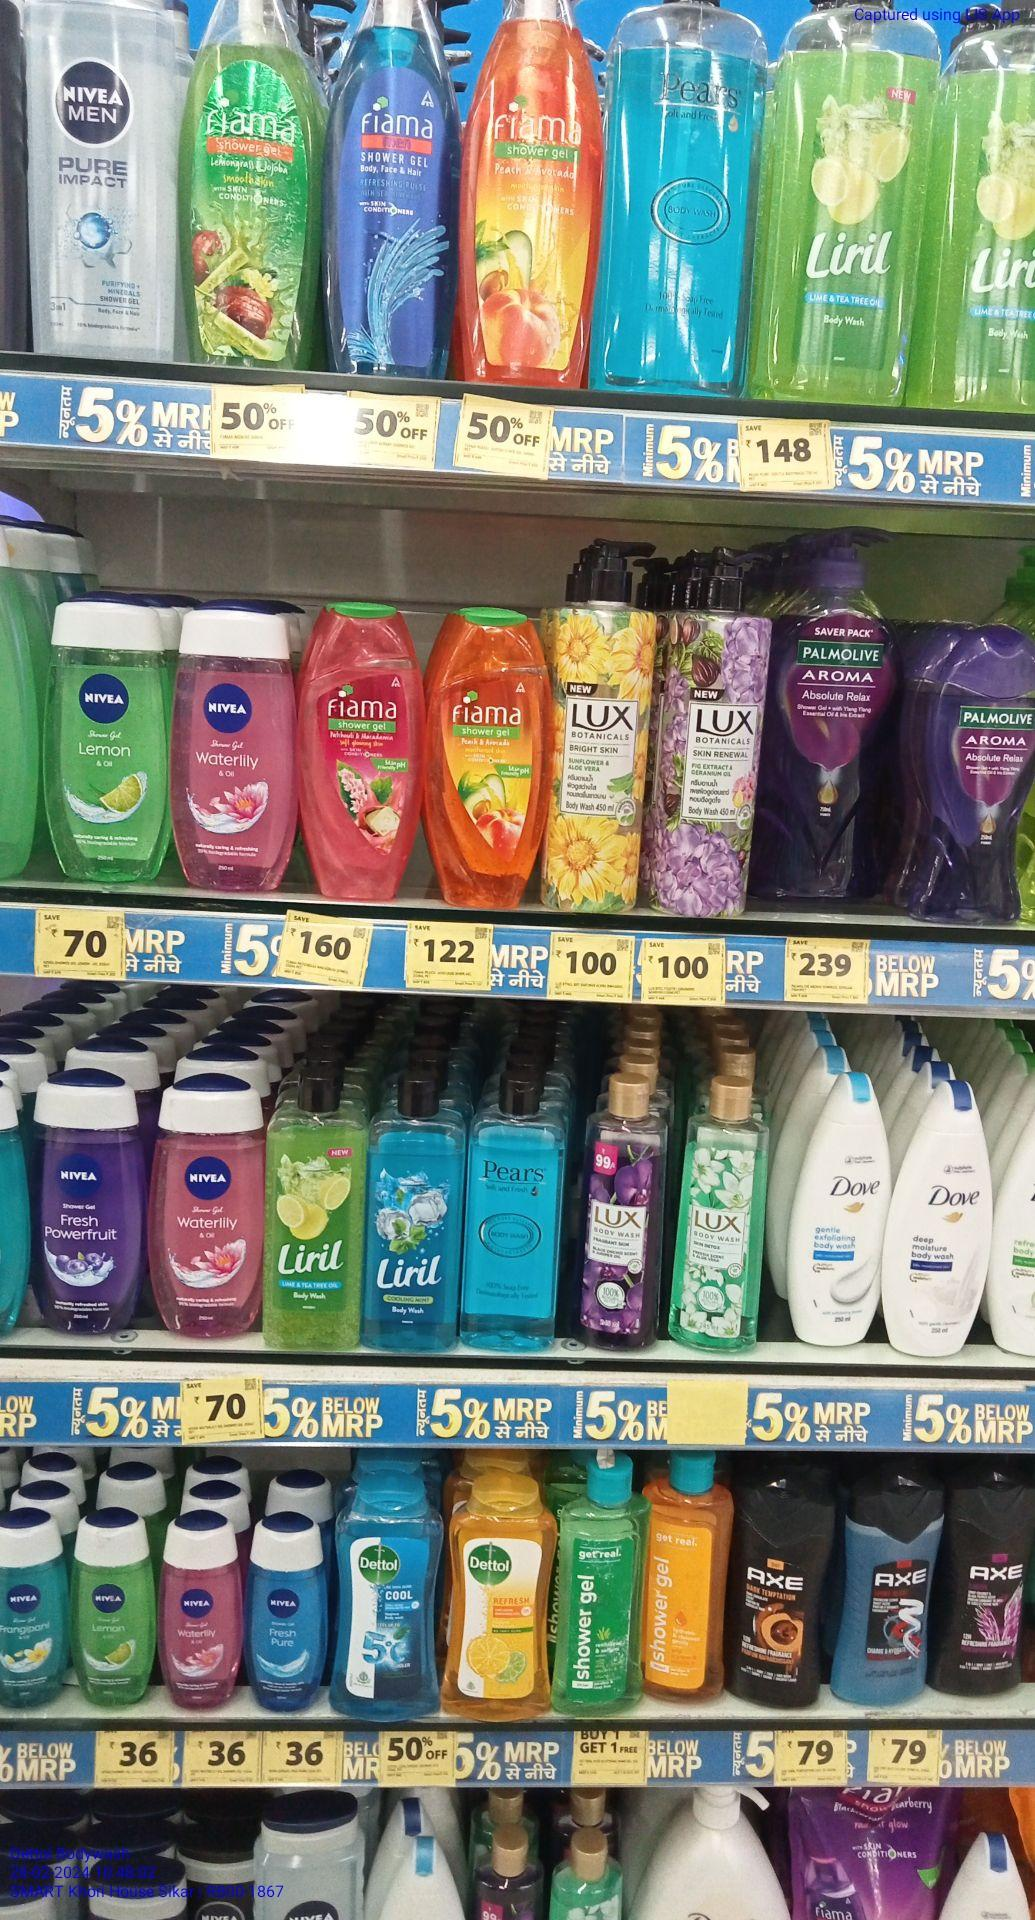Dettol_Bodywash_Cool: (338, 1479, 438, 1726)
Dettol_Bodywash_Refresh: (451, 1479, 549, 1726)
Dove_Deep_Moisture_Body_Wash_250ML: (902, 1080, 992, 1356)
Dove_Gentle_Exfoliating_Body_Wash_250ML: (803, 1070, 890, 1348)
Fiama_Shower_Gel_Patchouli_and_Macadamia_250ML: (305, 600, 417, 902)
Fiama_Shower_Gel_Peach_and_Avocado_250ML: (433, 594, 538, 911)
Liril_Cooling_Mint_Body_Wash_250ML: (376, 1075, 456, 1354)
Liril_Lime_and_Tea_Tree_Oil_Body_Wash_250ML: (269, 1075, 359, 1359)
Lux_Black_Orchid_Scent_and_Juniper_Oil_Body_Wash_245ML: (579, 1079, 672, 1354)
Lux_Body_Wash_Skin_Detox_Freesia_Scent_and_Alove_Vera_245ML: (683, 1075, 764, 1353)
Nivea_Shower_Gel_Frangipani_and_Oil_250ML: (0, 1512, 68, 1705)
Nivea_Shower_Gel_Fresh_Powerfruit_250ML: (40, 1075, 143, 1340)
Nivea_Shower_Gel_Lemon_and_Oil_250ML: (47, 592, 161, 880), (71, 1507, 157, 1709)
Nivea_Shower_Gel_Waterlily_and_Oil_250ML: (177, 596, 289, 894), (156, 1078, 259, 1344), (164, 1515, 242, 1715)
Pears_Pure_Glycerin_and_Mint_Extracts_Body_Wash_250ML: (472, 1075, 562, 1354)
